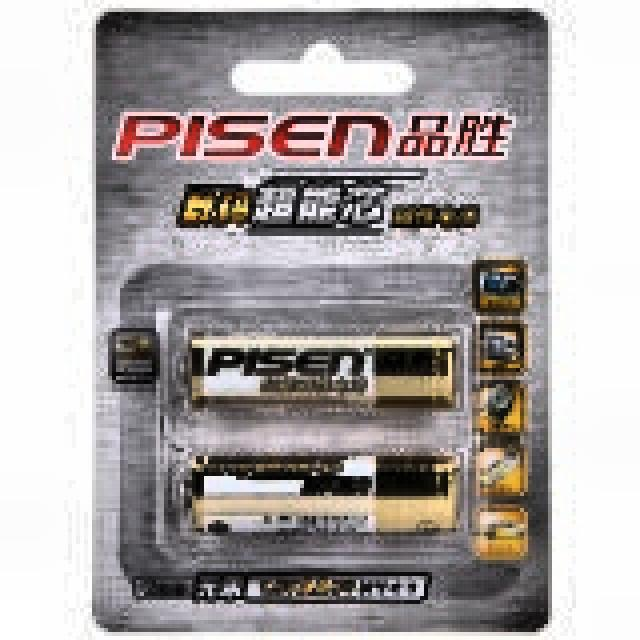Non-Valuable Waste - Batteries: (191, 456, 455, 533), (191, 335, 455, 406)
